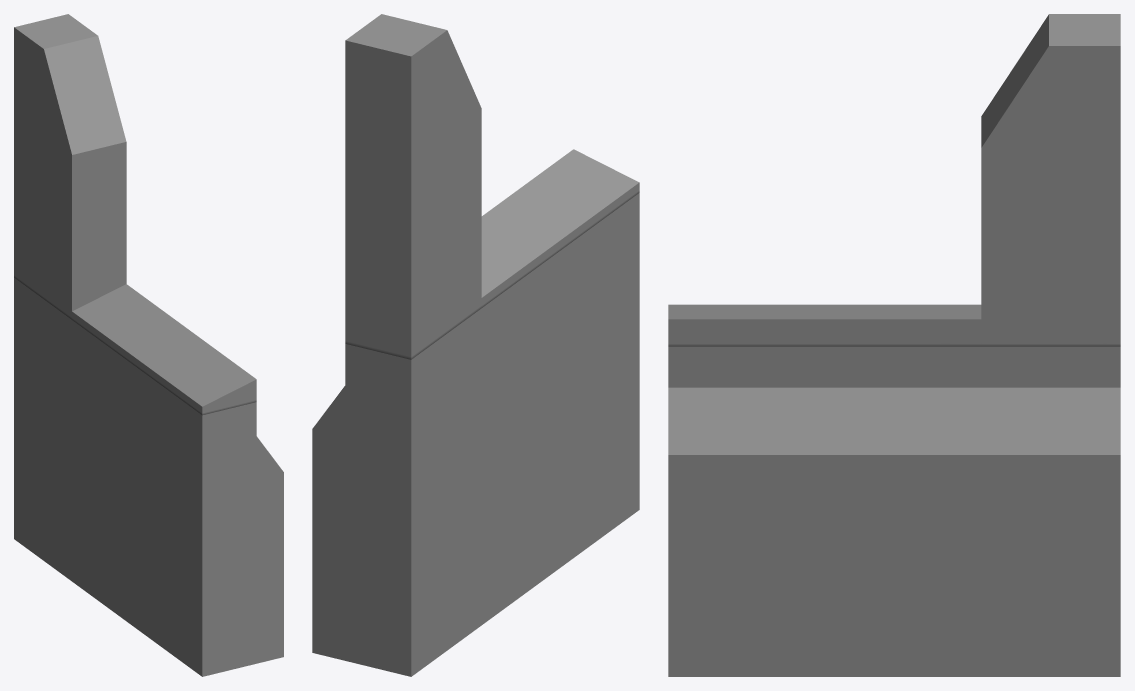
The model's file is SW_PROP_TicketReaderGateEnd.fbx.
3 renders of one model, left to right at view 1: azimuth 30°, elevation 25°; view 2: azimuth 150°, elevation 25°; view 3: azimuth 270°, elevation 25°, orthographic. The views are drawn at different scales.
Visible parts, largest first — view 1: SW_PROP_TicketReaderGateEnd; view 2: SW_PROP_TicketReaderGateEnd; view 3: SW_PROP_TicketReaderGateEnd.
Part boxes in pixels (x1,y1,x2,y2): SW_PROP_TicketReaderGateEnd: (14,14,283,676); SW_PROP_TicketReaderGateEnd: (312,14,639,676); SW_PROP_TicketReaderGateEnd: (668,14,1120,676).
Size of the model in its own units: 0.3 by 1.8 by 1.2.
